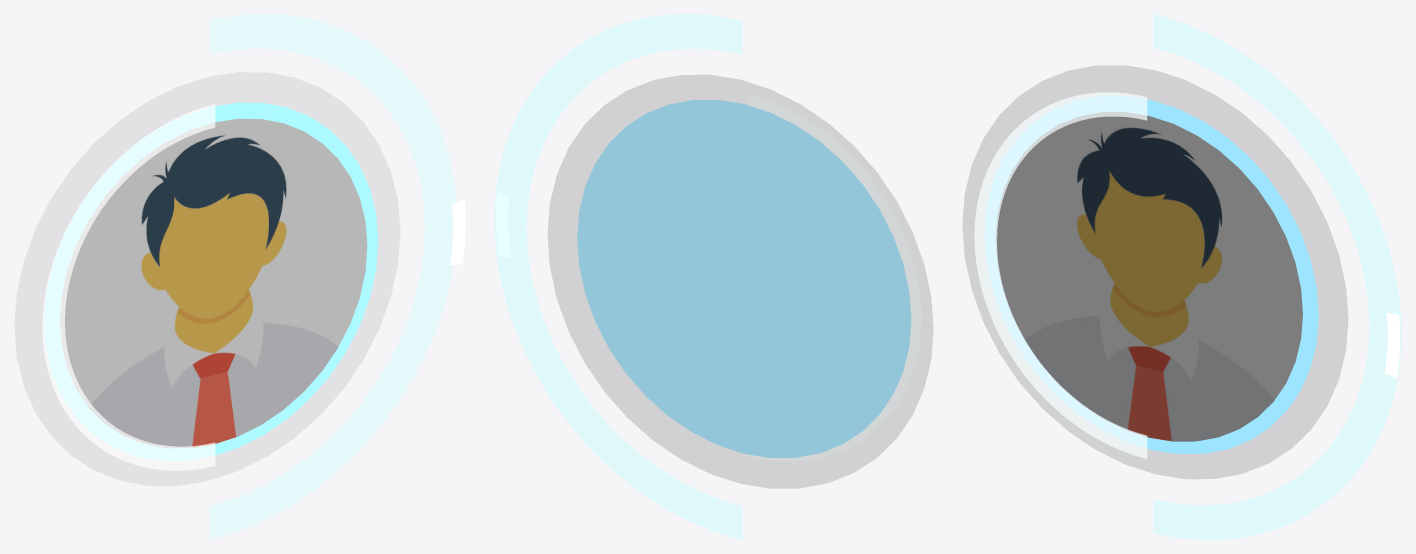
Rendered from Buttoncenterup.glb.
3 views of the same model, side by side, from view 1: azimuth 30°, elevation 25°; view 2: azimuth 150°, elevation 25°; view 3: azimuth 330°, elevation 25° (orthographic).
Parts seen in each view (by area): view 1: buttonUP_pic_main, buttonUP_picBGoutside, buttonUP_right, buttonUP_picBGInside, buttonUP_left_half, buttonUP_rotating; view 2: buttonUP_picBGoutside, buttonUP_picBGInside, buttonUP_right, buttonUP_left_half, buttonUP_rotating; view 3: buttonUP_pic_main, buttonUP_picBGoutside, buttonUP_right, buttonUP_picBGInside, buttonUP_left_half, buttonUP_rotating.
Part boxes in pixels (left/top/right/bottom): buttonUP_pic_main: left=60, top=118, right=367, bottom=447; buttonUP_picBGoutside: left=14, top=72, right=400, bottom=485; buttonUP_right: left=209, top=14, right=456, bottom=539; buttonUP_picBGInside: left=44, top=102, right=378, bottom=460; buttonUP_left_half: left=42, top=104, right=215, bottom=470; buttonUP_rotating: left=450, top=199, right=465, bottom=264; buttonUP_picBGoutside: left=547, top=75, right=933, bottom=488; buttonUP_picBGInside: left=577, top=99, right=911, bottom=457; buttonUP_right: left=494, top=14, right=741, bottom=539; buttonUP_left_half: left=748, top=95, right=921, bottom=461; buttonUP_rotating: left=496, top=192, right=511, bottom=257; buttonUP_pic_main: left=995, top=112, right=1302, bottom=441; buttonUP_picBGoutside: left=962, top=65, right=1348, bottom=478; buttonUP_right: left=1154, top=14, right=1401, bottom=539; buttonUP_picBGInside: left=985, top=96, right=1318, bottom=454; buttonUP_left_half: left=974, top=92, right=1147, bottom=458; buttonUP_rotating: left=1384, top=313, right=1399, bottom=378.
Bounding box in the file's own units: 1.14 × 1.27 × 0.0354.
Materials: 6 (1 with a texture image).
